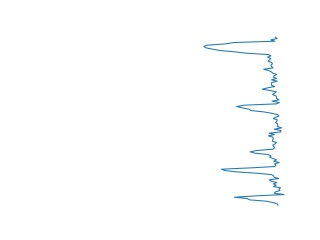distalBar: (199, 32, 281, 86)
interdistributaryEstuary: (234, 86, 285, 142)
underwaterNaturalLevee: (218, 142, 287, 208)
